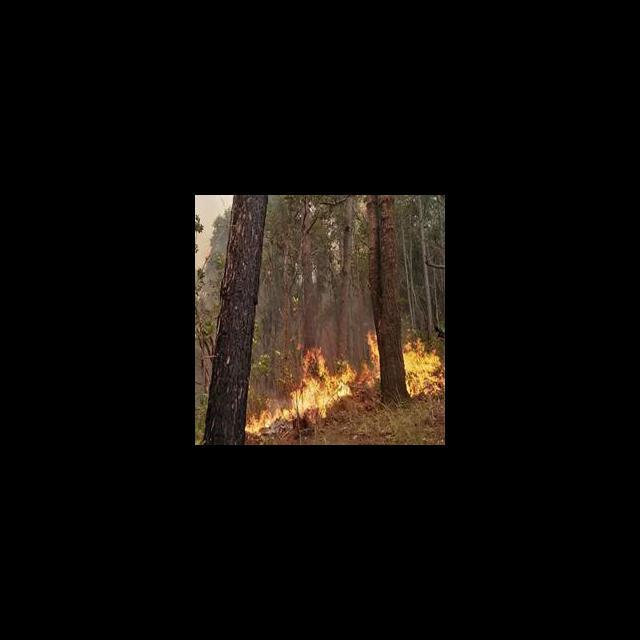Fire: (248, 348, 352, 433), (405, 335, 443, 398), (356, 331, 381, 388)
